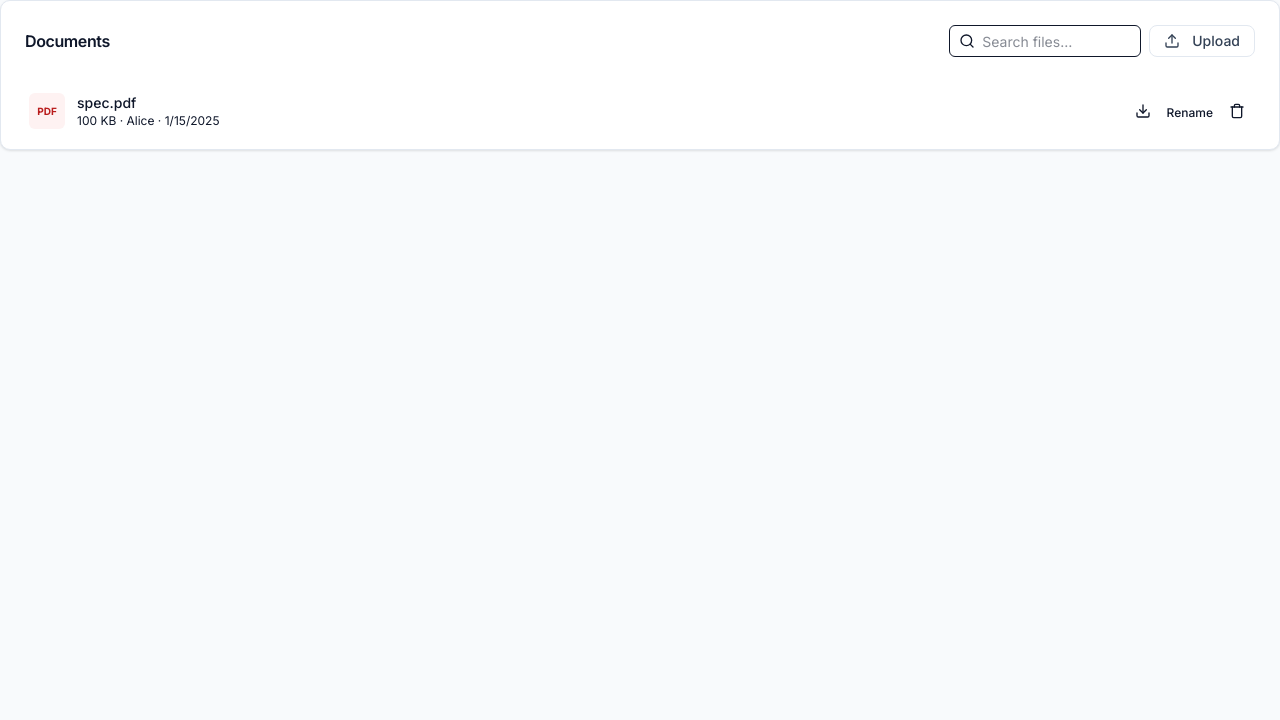
Test: DocumentManager › opens delete confirmation modal
The width and height of the screenshot is (1280, 720).
Step 1. Click the button titled "Delete" → (1237, 111), box top-left (1223, 93), bottom-right (1251, 129)
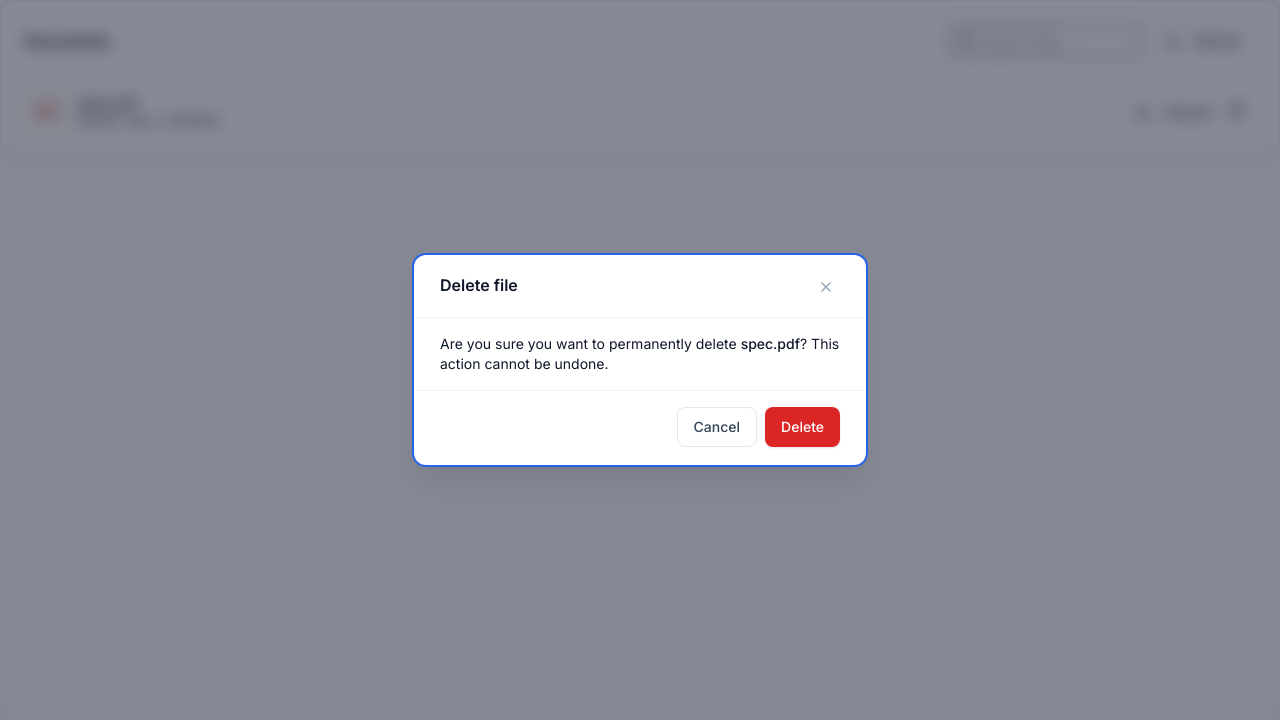
expect the heading "Delete file" is shown: met, box top-left (440, 273), bottom-right (518, 297)
expect the text "spec.pdf" is shown: met, box top-left (741, 335), bottom-right (800, 352)
